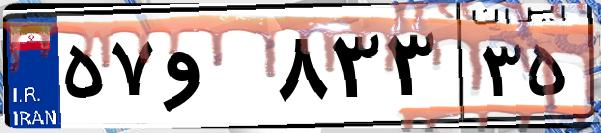3: (385, 28, 445, 110), (330, 28, 385, 110), (475, 38, 525, 113)
5: (57, 26, 110, 100), (525, 38, 570, 115)
7: (110, 28, 158, 98)
8: (270, 28, 330, 110)
و: (158, 20, 270, 120)
